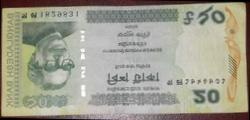20 taka: (2, 7, 248, 112)
